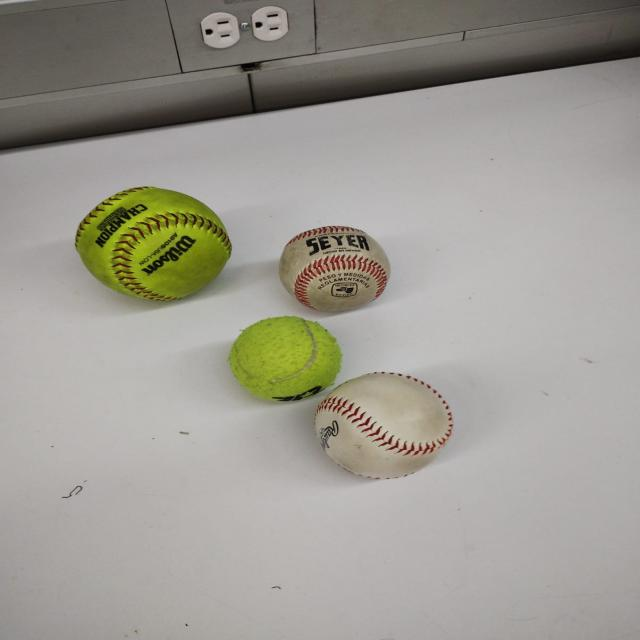beisbol ball: (313, 372, 453, 479), (278, 226, 393, 313)
softball ball: (74, 187, 234, 302)
tenis ball: (225, 314, 342, 402)
